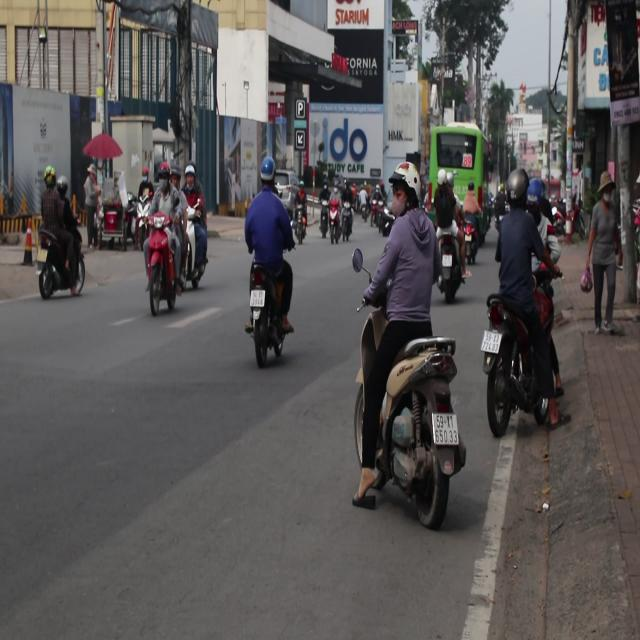bus: (433, 124, 489, 208)
car: (274, 171, 301, 203)
motorbike: (351, 310, 458, 539), (472, 286, 574, 447), (238, 262, 296, 363), (141, 209, 184, 316), (35, 220, 95, 296), (163, 207, 213, 286), (438, 232, 471, 303), (290, 192, 314, 236), (373, 200, 396, 239), (460, 211, 477, 261), (339, 197, 355, 239), (315, 200, 329, 242), (328, 205, 338, 245)
